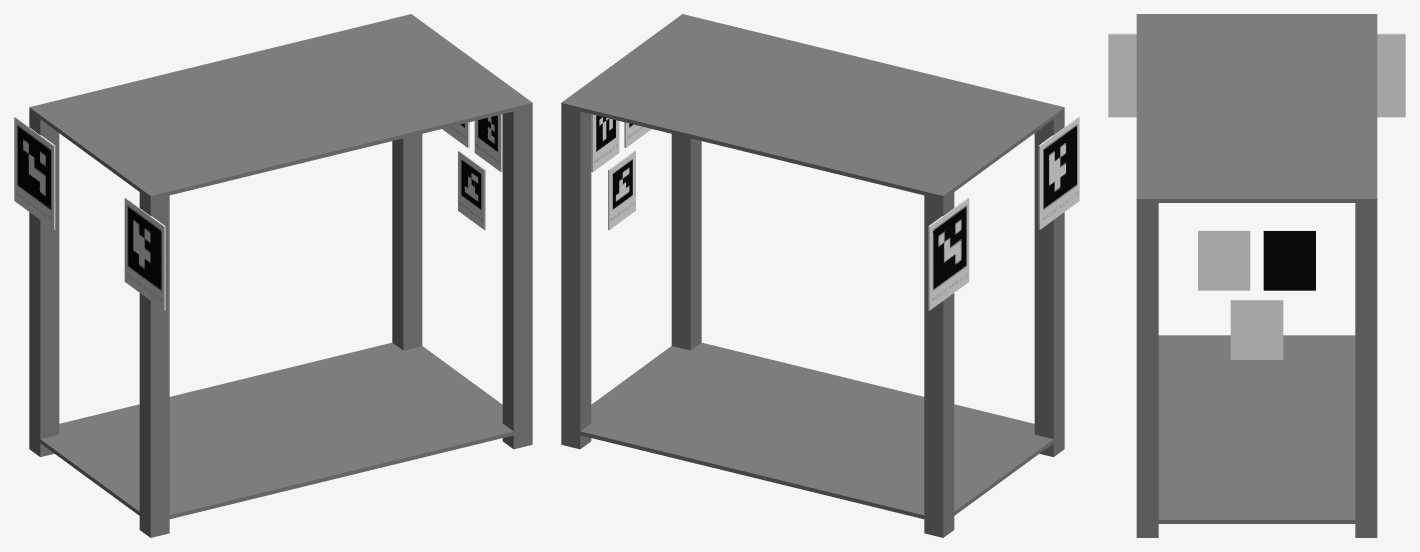
File: docking_station.glb
The picture shows the model from 3 angles, left to right: view 1: azimuth 30°, elevation 25°; view 2: azimuth 150°, elevation 25°; view 3: azimuth 270°, elevation 25°; orthographic projection.
Visible parts, largest first — view 1: docking_station, large_tag_id26, small_tag_id_27, small_tag_id_29, small_tag_id_28; view 2: docking_station, small_tag_id_27, large_tag_id26, small_tag_id_29, large_tag_id25; view 3: docking_station, small_tag_id_29, large_tag_id25, small_tag_id_28, large_tag_id26, small_tag_id_27.
Boxes of the visible parts, x1,y1,x2,y2 form: docking_station: (29, 14, 532, 537); large_tag_id26: (124, 197, 165, 310); small_tag_id_27: (14, 116, 55, 229); small_tag_id_29: (458, 150, 485, 230); small_tag_id_28: (474, 114, 502, 172); docking_station: (561, 14, 1064, 537); small_tag_id_27: (928, 197, 969, 310); large_tag_id26: (1038, 116, 1079, 229); small_tag_id_29: (608, 150, 635, 230); large_tag_id25: (591, 114, 619, 172); docking_station: (1136, 14, 1377, 537); small_tag_id_29: (1230, 299, 1283, 359); large_tag_id25: (1263, 230, 1315, 290); small_tag_id_28: (1198, 230, 1250, 290); large_tag_id26: (1108, 33, 1136, 117); small_tag_id_27: (1377, 33, 1405, 117).
Bounding box in the file's own units: 1 × 0.855 × 0.68.
Materials: 6 (5 with a texture image).
